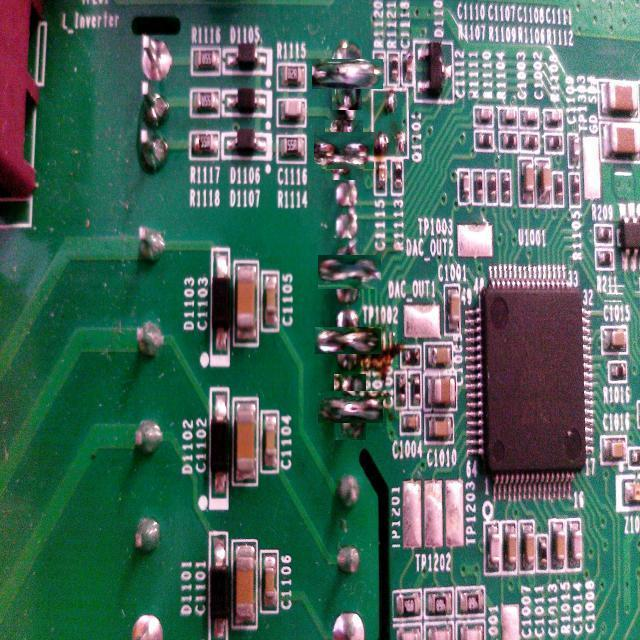Short_circuit: (322, 48, 372, 100), (320, 125, 368, 175), (326, 383, 374, 432), (325, 248, 373, 296), (324, 316, 372, 364)
